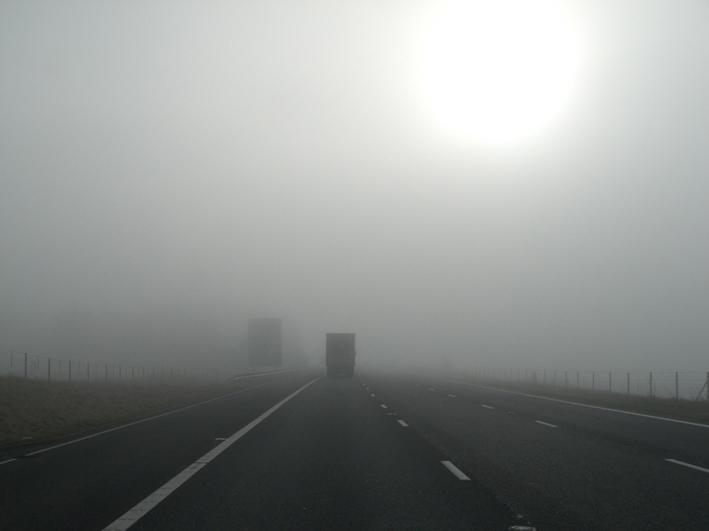bus: (247, 316, 284, 369), (324, 330, 357, 378)
